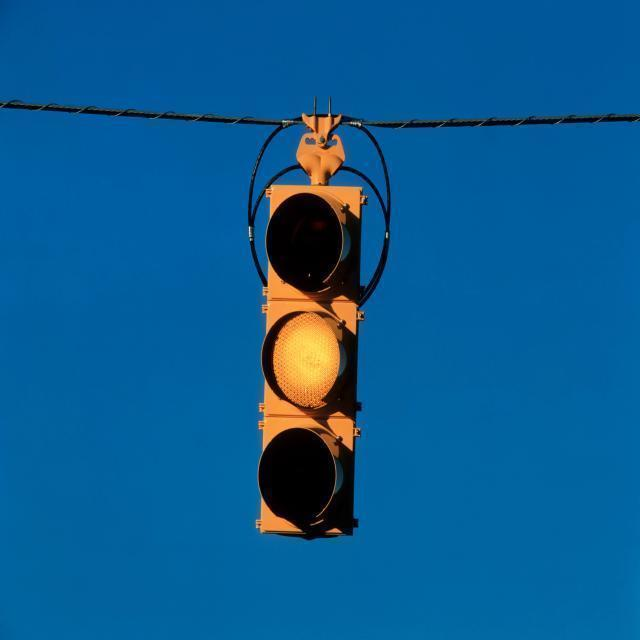yellow_light: (257, 178, 365, 544)
